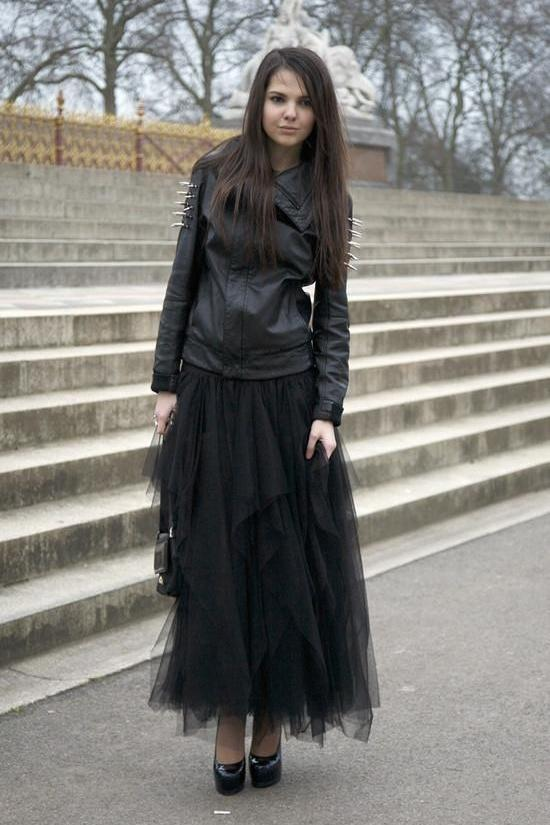skirt: (154, 355, 373, 741)
sweater: (150, 134, 354, 421)
